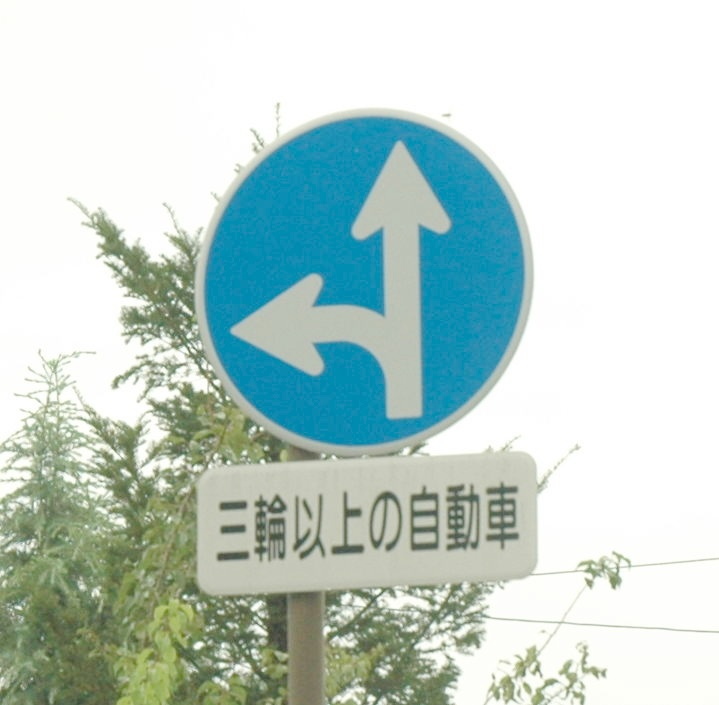Direction_sign: (166, 92, 552, 482)
